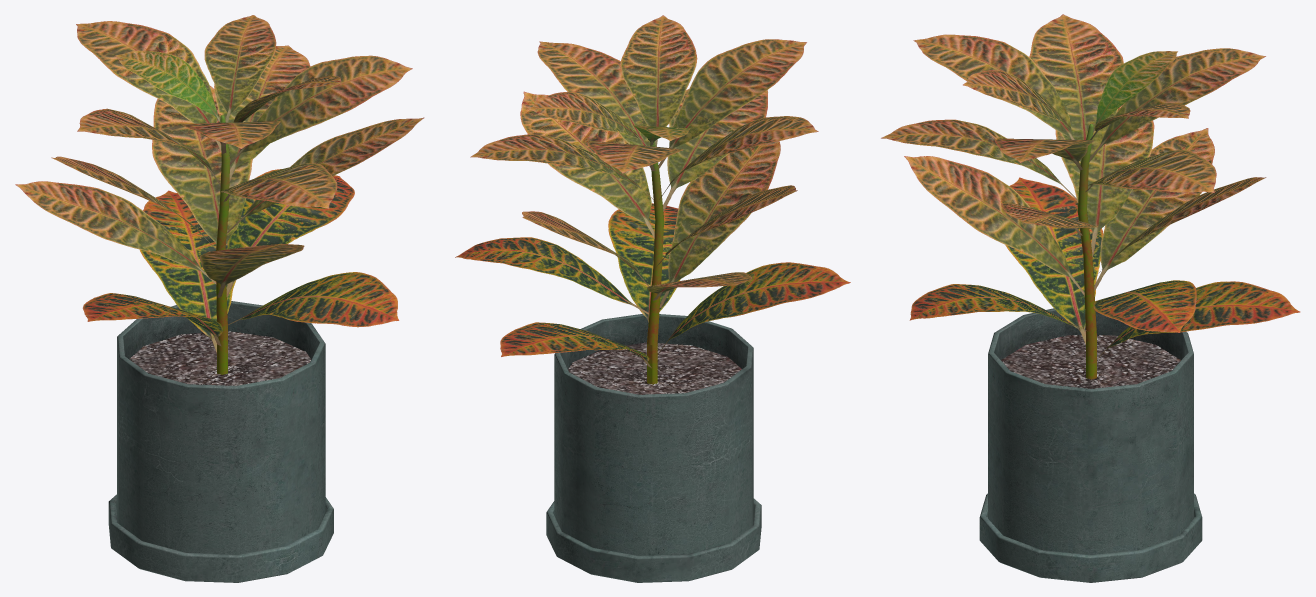
The model's file is croton_pot.glb.
The picture shows the model from 3 angles, left to right: view 1: azimuth 30°, elevation 25°; view 2: azimuth 150°, elevation 25°; view 3: azimuth 270°, elevation 25°; orthographic projection. The views are drawn at different scales.
Parts seen in each view (by area): view 1: Plant, Pot2; view 2: Plant, Pot2; view 3: Plant, Pot2.
Part boxes in pixels (x1,y1,x2,y2): Plant: [15, 15, 424, 374]; Pot2: [108, 301, 333, 582]; Plant: [455, 15, 850, 384]; Pot2: [546, 314, 761, 582]; Plant: [881, 14, 1300, 379]; Pot2: [979, 308, 1202, 582].
Size of the model in its own units: 0.4634 by 0.6297 by 0.502.
2 materials, 2 textured.
